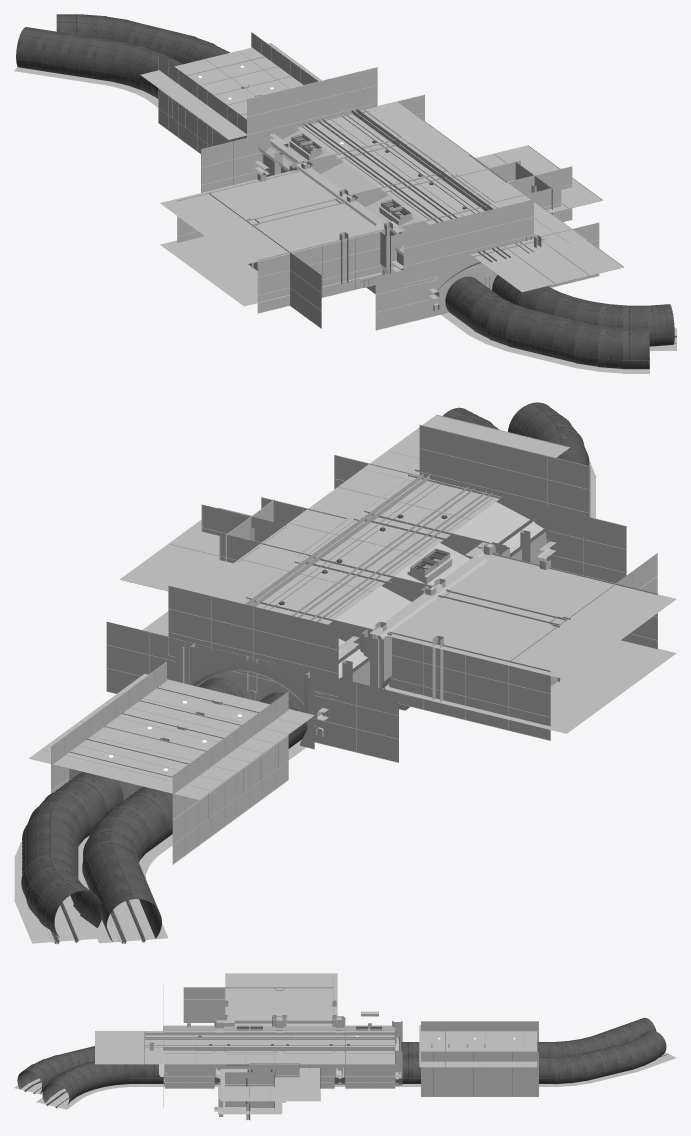
Rendered from Metoro.gltf.
3 renders of one model, top to bottom at view 1: azimuth 30°, elevation 25°; view 2: azimuth 150°, elevation 25°; view 3: azimuth 270°, elevation 25°, orthographic. The views are drawn at different scales.
Visible parts, largest first — view 1: Plane84, S_TunnelWallPanel6, S_TunnelWallPanel7, S_TunnelWallPanel8, Plane83, S_TunnelWallPanel21, S_TunnelWallPanel22, S_TunnelWallPanel41, S_TunnelWallPanel16, S_TunnelWallPanel20, S_TunnelWallPanel15, S_TunnelWallPanel18 (+44 smaller); view 2: Plane84, S_TunnelWallPanel7, Plane83, S_TunnelWallPanel18, S_TunnelWallPanel6, S_TunnelWallPanel42, S_TunnelWallPanel15, S_TunnelWallPanel16, S_TunnelWallPanel22, S_TunnelWallPanel21, S_TunnelWallPanel40, S_TunnelWallPanel20 (+46 smaller); view 3: Plane84, S_TunnelWallPanel6, S_TunnelWallPanel7, S_TunnelWallPanel38, S_TunnelWallPanel8, S_TunnelWallPanel47, S_TunnelWallPanel30, S_TunnelWallPanel29, S_TunnelWallPanel46, S_TunnelWallPanel, S_TunnelWallPanel4, S_TunnelWallPanel33 (+42 smaller).
Boxes of the visible parts, x1,y1,x2,y2 form: Plane84: (160, 170, 388, 264); S_TunnelWallPanel6: (296, 101, 473, 181); S_TunnelWallPanel7: (371, 157, 548, 224); S_TunnelWallPanel8: (470, 212, 624, 292); Plane83: (160, 236, 381, 306); S_TunnelWallPanel21: (403, 215, 468, 284); S_TunnelWallPanel22: (375, 261, 440, 330); S_TunnelWallPanel41: (323, 228, 387, 297); S_TunnelWallPanel16: (247, 83, 312, 152); S_TunnelWallPanel20: (469, 199, 533, 268); S_TunnelWallPanel15: (312, 67, 377, 122); S_TunnelWallPanel18: (201, 138, 262, 192); Plane84: (386, 554, 676, 679); S_TunnelWallPanel7: (240, 486, 471, 591); Plane83: (388, 640, 676, 733); S_TunnelWallPanel18: (313, 672, 398, 762); S_TunnelWallPanel6: (142, 559, 373, 663); S_TunnelWallPanel42: (465, 650, 550, 740); S_TunnelWallPanel15: (168, 585, 253, 676); S_TunnelWallPanel16: (253, 606, 338, 697); S_TunnelWallPanel22: (541, 506, 626, 582); S_TunnelWallPanel21: (505, 445, 590, 534); S_TunnelWallPanel40: (388, 631, 465, 719); S_TunnelWallPanel20: (419, 425, 504, 497); Plane84: (225, 973, 337, 1020); S_TunnelWallPanel6: (295, 1031, 395, 1064); S_TunnelWallPanel7: (195, 1031, 295, 1064); S_TunnelWallPanel38: (220, 1068, 320, 1101); S_TunnelWallPanel8: (95, 1031, 195, 1064); S_TunnelWallPanel47: (499, 1051, 538, 1096); S_TunnelWallPanel30: (460, 1051, 499, 1096); S_TunnelWallPanel29: (421, 1051, 460, 1096); S_TunnelWallPanel46: (183, 987, 233, 1022); S_TunnelWallPanel: (345, 1053, 395, 1088); S_TunnelWallPanel4: (164, 1053, 214, 1088); S_TunnelWallPanel33: (225, 1072, 274, 1107).
Size of the model in its own units: 38.1 by 11.5 by 92.69.
